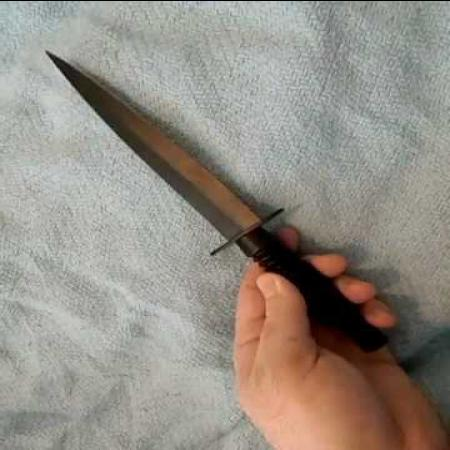long weapon: (28, 38, 372, 316)
